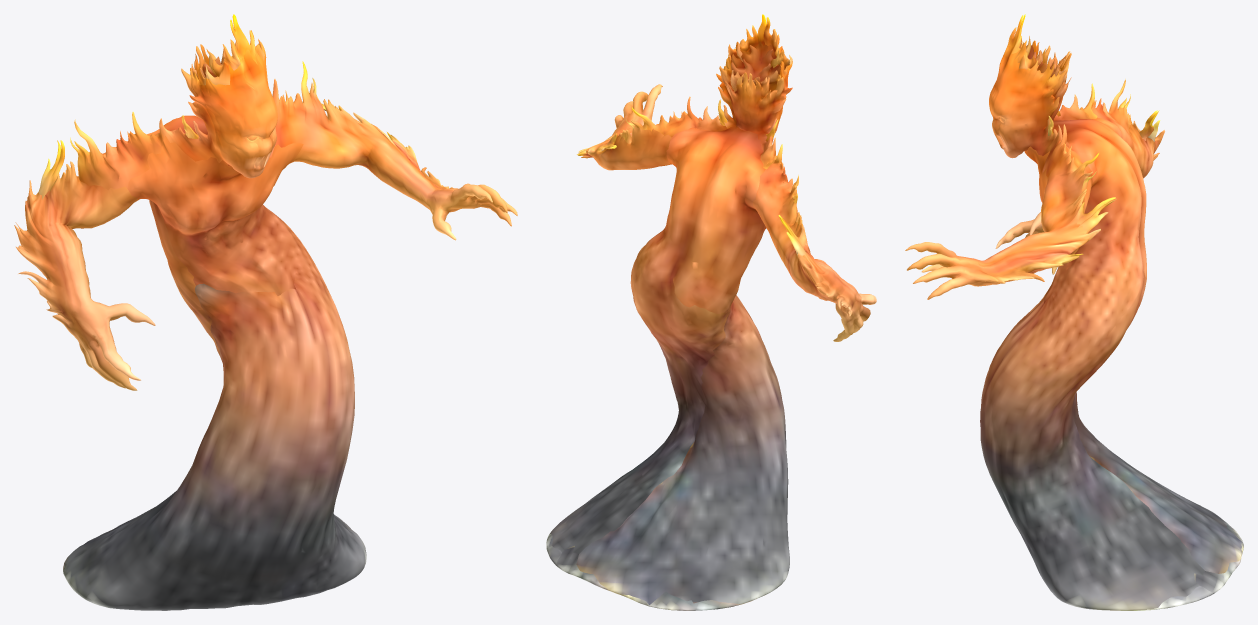
Rendered from MZ4250 - Shadow_2025_FireSpirit.glb.
3 renders of one model, left to right at view 1: azimuth 30°, elevation 25°; view 2: azimuth 150°, elevation 25°; view 3: azimuth 270°, elevation 25°, orthographic. The views are drawn at different scales.
Parts seen in each view (by area): view 1: Body.002; view 2: Body.002; view 3: Body.002.
Part boxes in pixels (x1,y1,x2,y2): Body.002: [14, 14, 517, 610]; Body.002: [546, 14, 876, 610]; Body.002: [905, 14, 1243, 610].
Size of the model in its own units: 59.58 by 92.78 by 53.93.
Materials: 1 (1 with a texture image).
